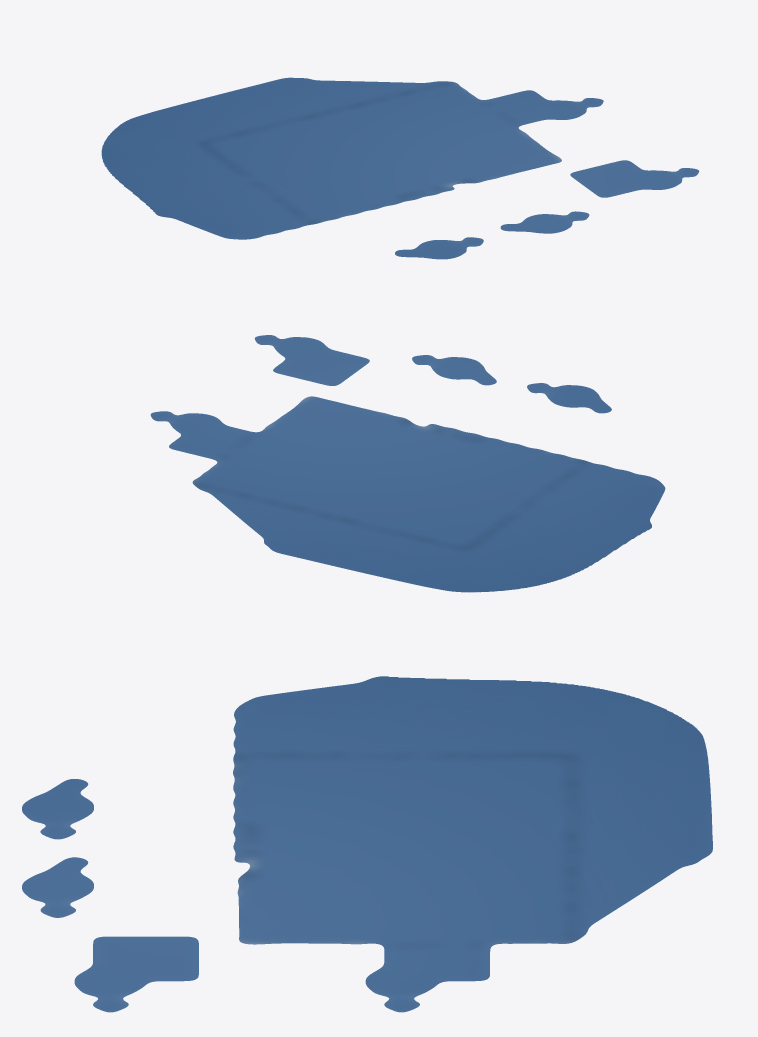
The model's file is Cafe_Fake_Shadow.fbx.
3 renders of one model, top to bottom at view 1: azimuth 30°, elevation 25°; view 2: azimuth 150°, elevation 25°; view 3: azimuth 270°, elevation 25°, orthographic. The views are drawn at different scales.
Parts seen in each view (by area): view 1: pPlane2; view 2: pPlane2; view 3: pPlane2.
Part boxes in pixels (box(x1,y1,x2,y2)): pPlane2: box(101, 77, 699, 259); pPlane2: box(150, 335, 665, 592); pPlane2: box(22, 676, 712, 1012).
Bounding box in the file's own units: 138 × 2.58e-14 × 116.
